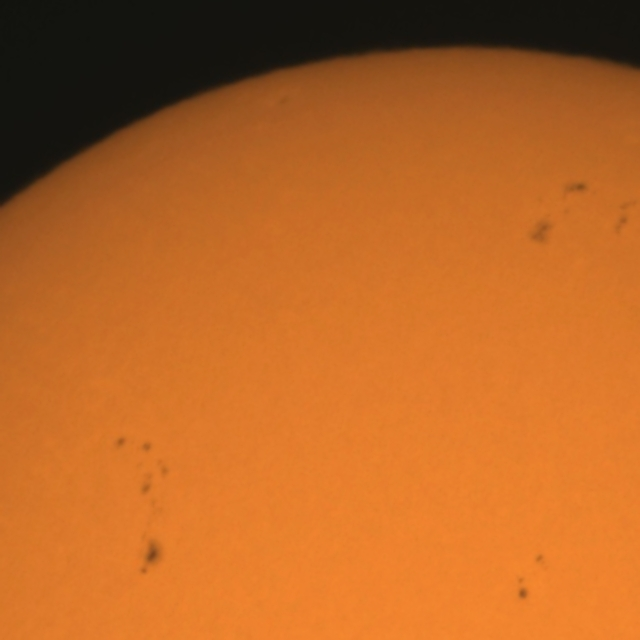sunspot: (134, 452, 171, 502), (135, 533, 164, 580), (527, 211, 556, 247), (116, 436, 156, 456), (612, 200, 632, 239), (562, 179, 590, 199), (514, 574, 532, 603), (113, 434, 128, 451), (532, 552, 546, 567)
